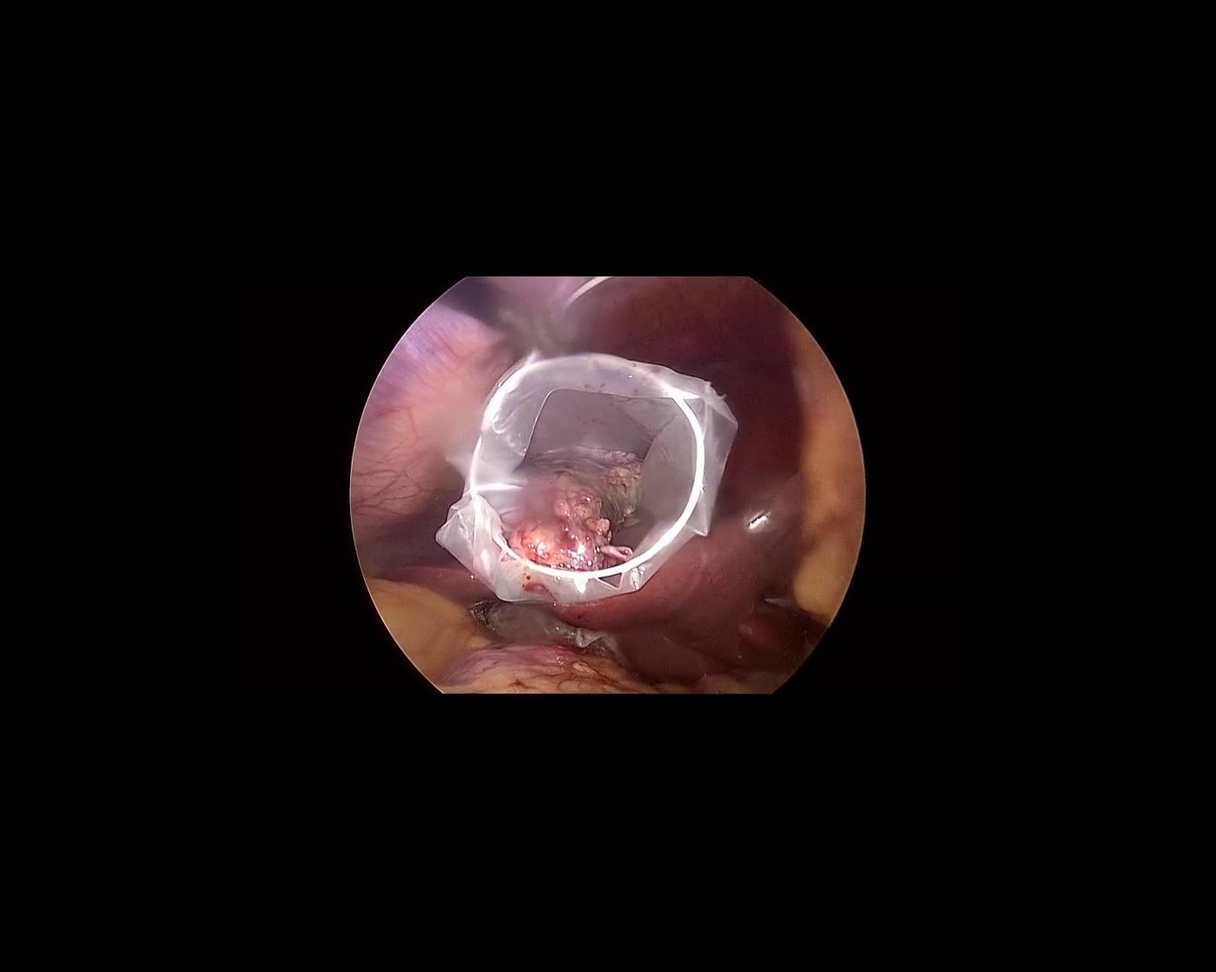Bag: (430, 337, 743, 626)
Gallbladder: (505, 439, 649, 580)
Liver: (464, 481, 839, 733)
